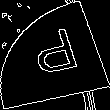P_S: (26, 26, 84, 84)
